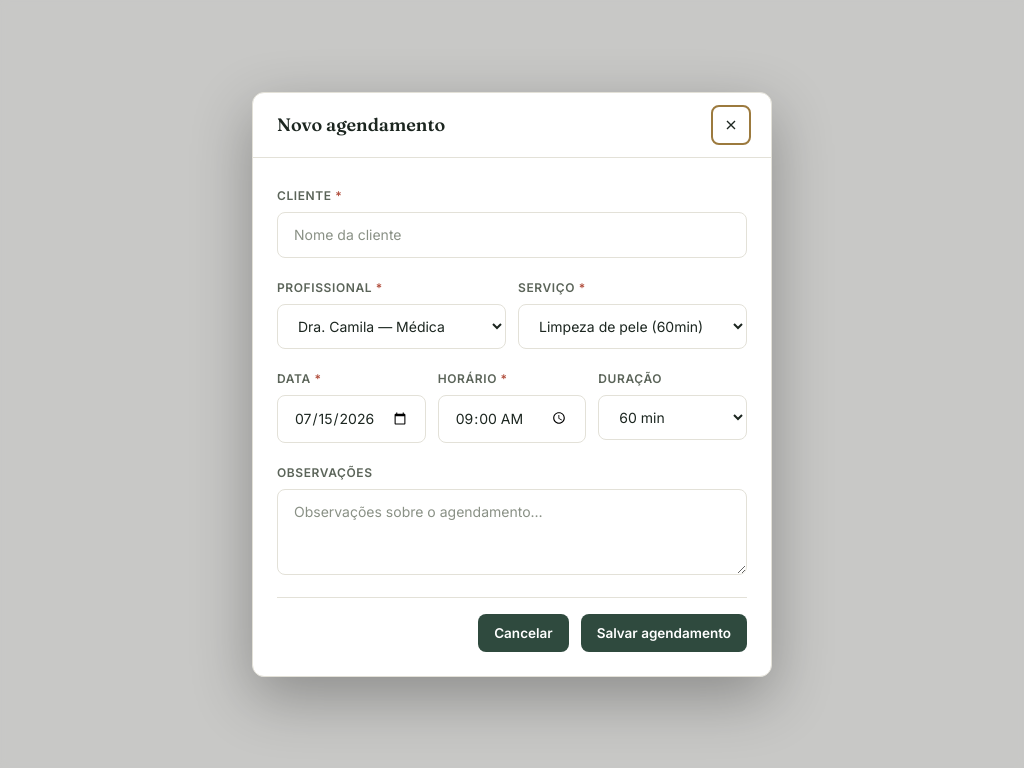
Scenario: AgendamentoModal › deve mostrar indicador do profissional selecionado
Select "Dra. Camila — Médica" in the dropdown below "Profissional" at x=392, y=326, box [277,304,506,348]
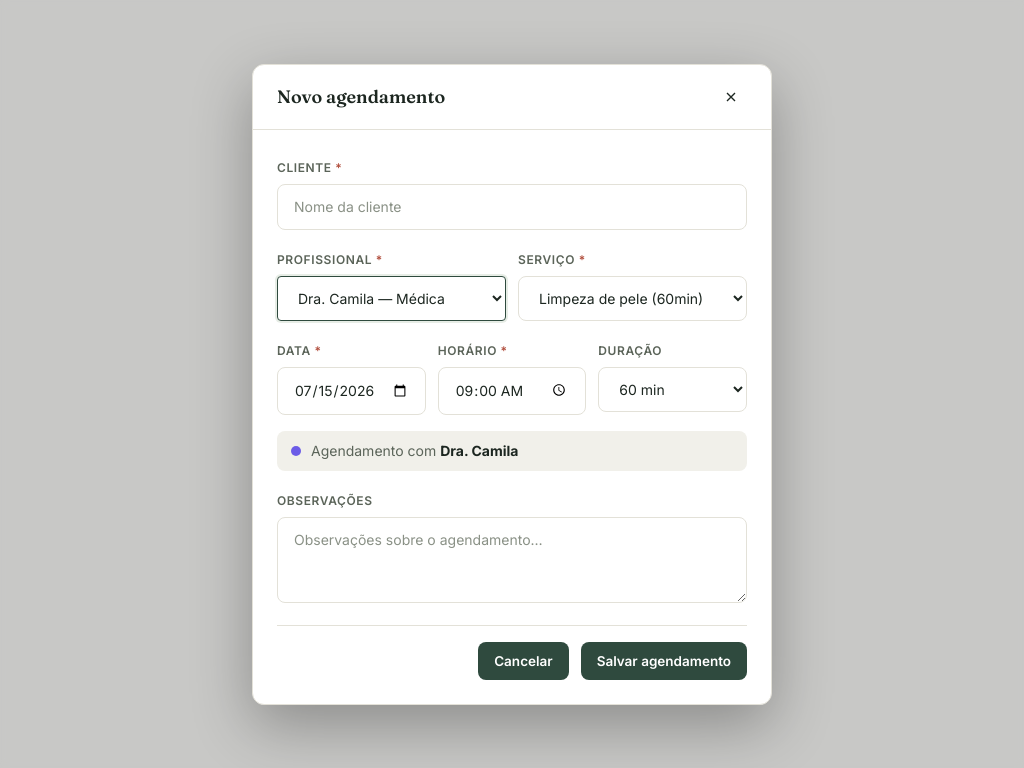
Now the text "Agendamento com Dra. Camila" is shown, box [311,440,518,460]
Now the text "Dra. Camila" is shown, box [440,442,518,458]
